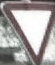Give way: (1, 0, 51, 63)
